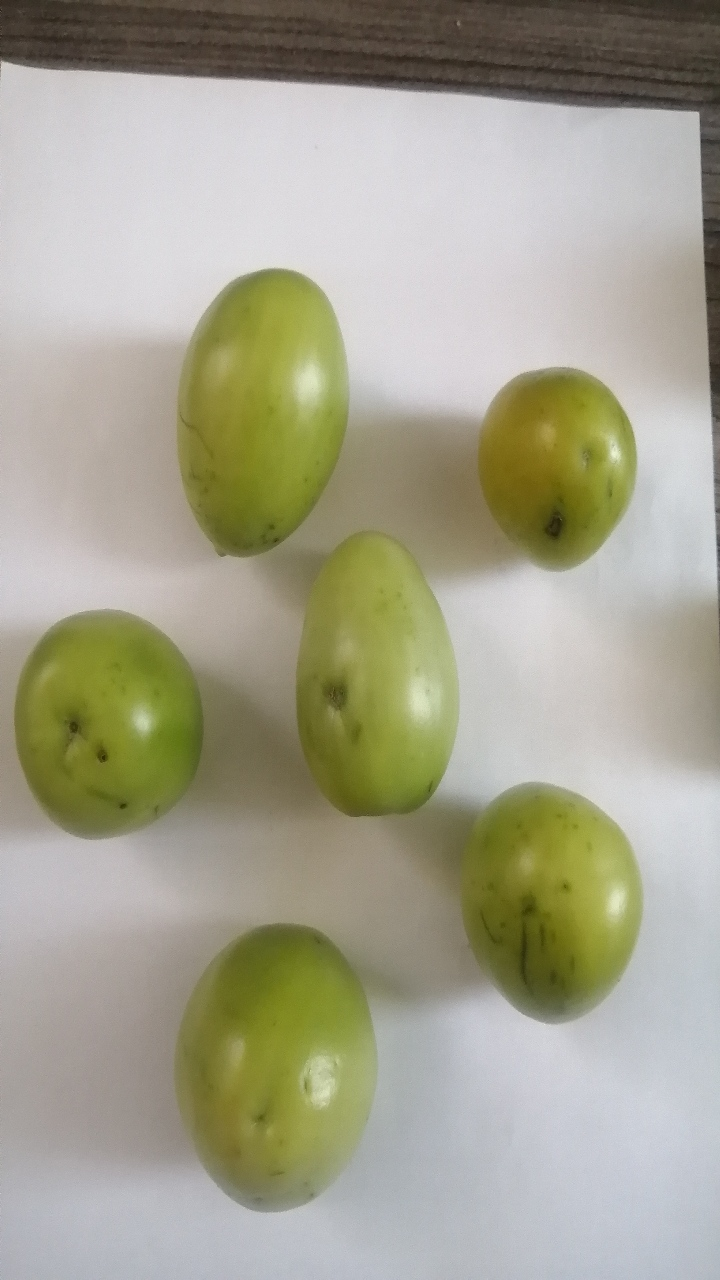tomateVerde: (144, 909, 401, 1242), (158, 246, 363, 585), (274, 519, 472, 839), (451, 771, 652, 1065), (4, 599, 224, 855), (466, 339, 654, 597)
